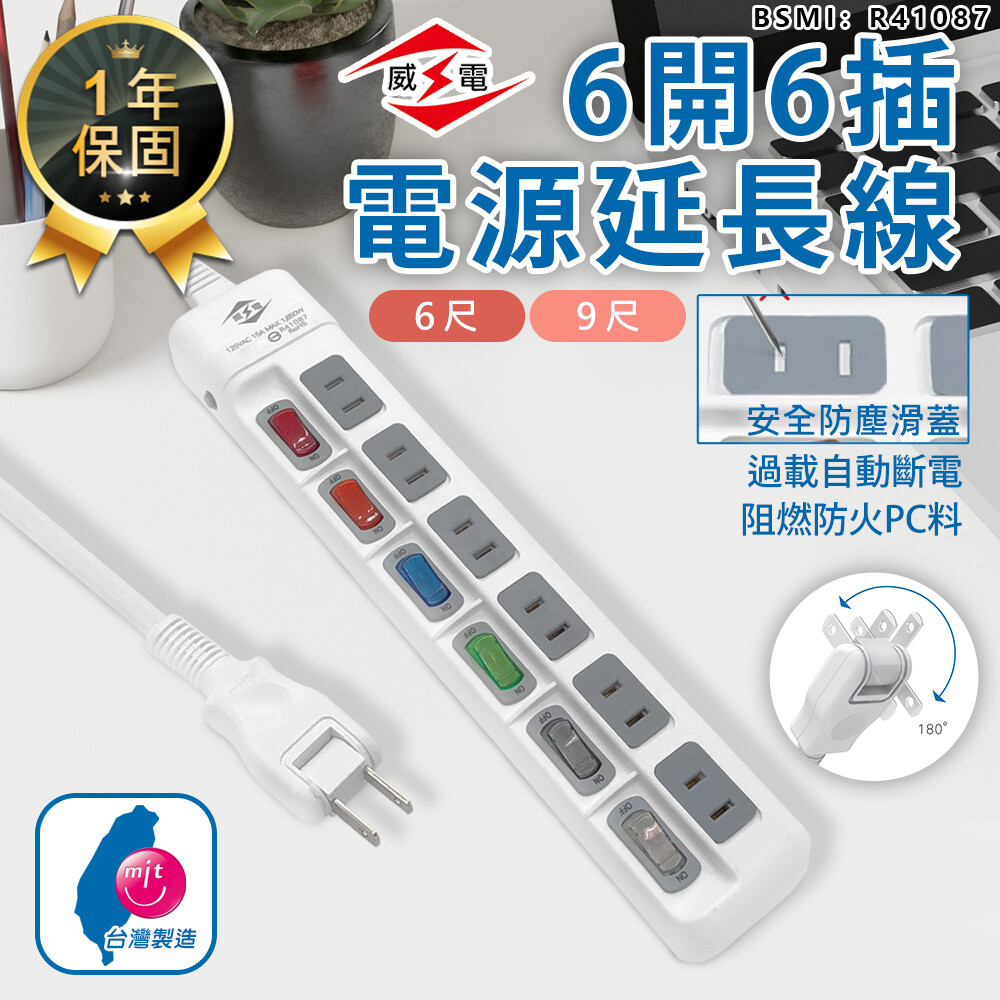socket: (162, 255, 810, 968)
